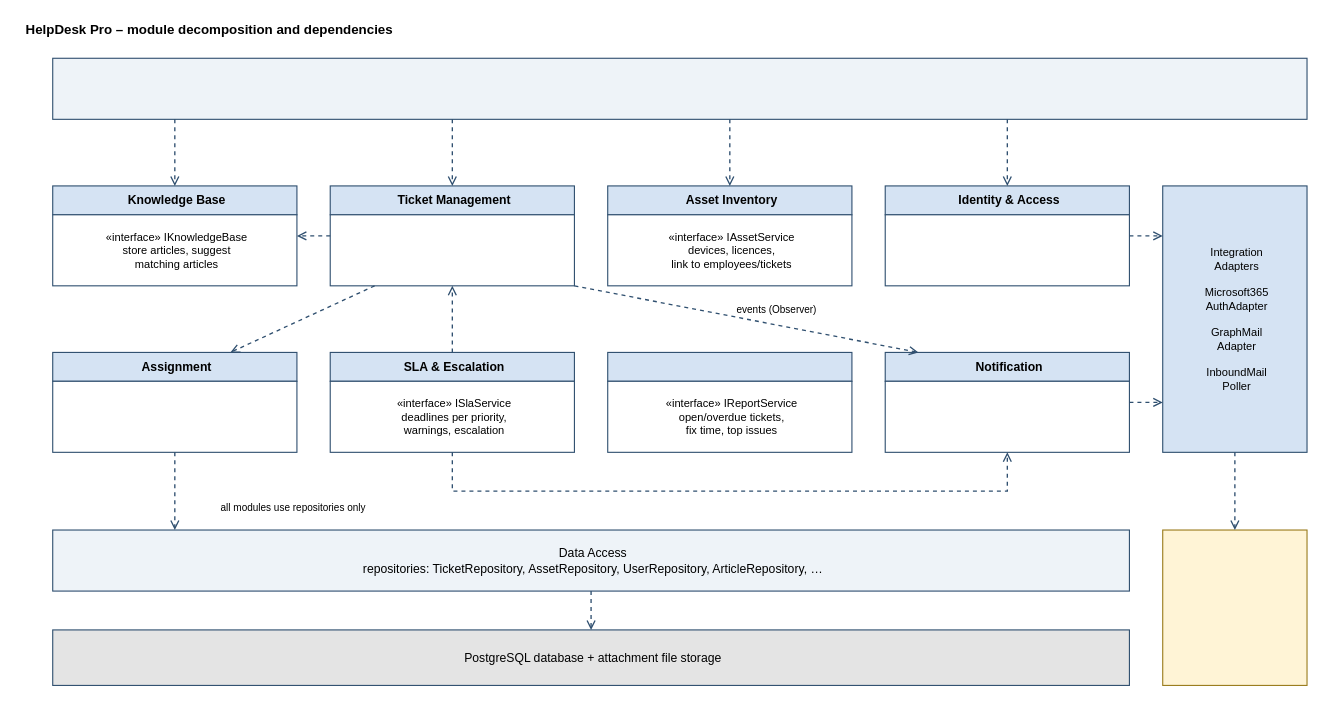
This 1326x705 diagram has some shape labels left out. The shapes that lost their labels are listed below. From the top down, each one's box as (x1, y1, x2, y2) in pixels, then its label:
(52, 57, 1307, 119): Presentation Web UI pages (browser) + REST API controllers
(329, 214, 574, 286): «interface» ITicketService create, update, reopen, close tickets; history
(884, 214, 1129, 286): «interface» IAuthService login, roles, user accounts
(607, 351, 852, 381): Reporting
(52, 380, 297, 452): «interface» IAssignmentStrategy choose a technician for a ticket
(884, 380, 1129, 452): «interface» INotifier e-mail and in-app messages
(1162, 529, 1307, 685): Microsoft 365 (Entra ID login, Exchange Online mail)
